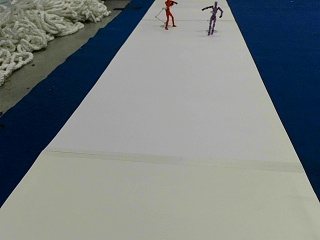pedestrian: (201, 1, 223, 34), (162, 0, 177, 28)
